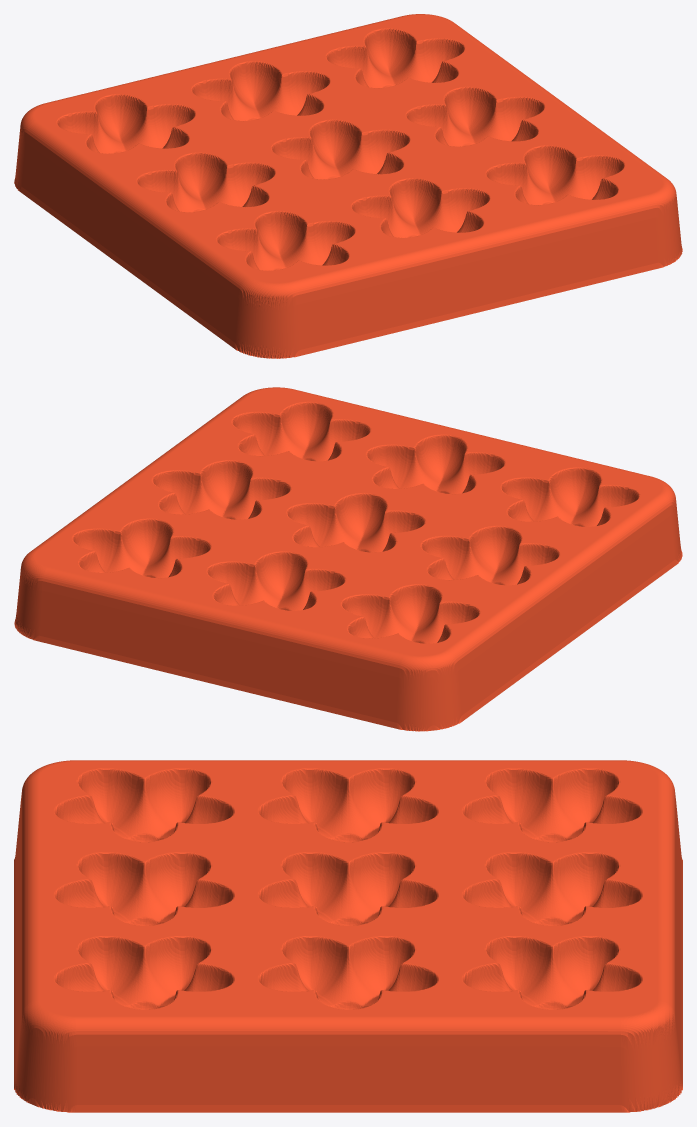
Rendered from mold.glb.
3 views of the same model, one above another, from view 1: azimuth 30°, elevation 25°; view 2: azimuth 150°, elevation 25°; view 3: azimuth 270°, elevation 25° (orthographic). The views are drawn at different scales.
Visible parts, largest first — view 1: geometry_0; view 2: geometry_0; view 3: geometry_0.
Part boxes in pixels (x1,y1,x2,y2): geometry_0: [14, 14, 682, 358]; geometry_0: [14, 387, 682, 731]; geometry_0: [14, 760, 682, 1112].
Bounding box in the file's own units: 0.094 × 0.0136 × 0.0964.
